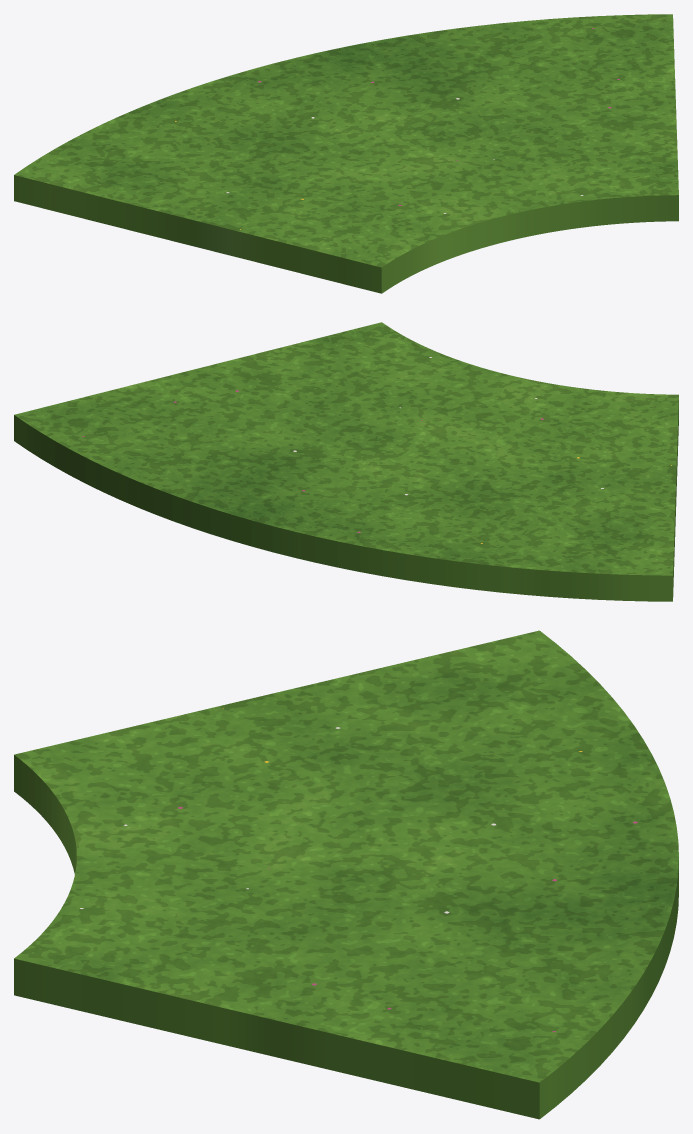
File: Segment_01_Blumenwiese.fbx
The picture shows the model from 3 angles, top to bottom: view 1: azimuth 30°, elevation 25°; view 2: azimuth 150°, elevation 25°; view 3: azimuth 270°, elevation 25°; orthographic projection. The views are drawn at different scales.
Visible parts, largest first — view 1: Segment_01_Blumenwiese; view 2: Segment_01_Blumenwiese; view 3: Segment_01_Blumenwiese.
Part boxes in pixels (left/top/right/bottom): Segment_01_Blumenwiese: left=14, top=14, right=678, bottom=293; Segment_01_Blumenwiese: left=14, top=322, right=678, bottom=601; Segment_01_Blumenwiese: left=14, top=630, right=678, bottom=1119.
Size of the model in its own units: 10.54 by 0.4 by 6.55.
1 material, 1 textured.
